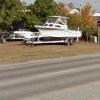Boat: (28, 14, 84, 45)
